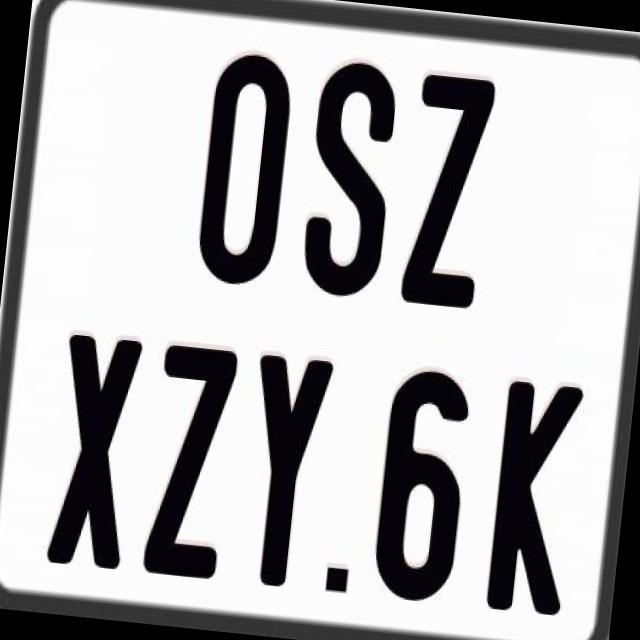0: (190, 47, 292, 286)
6: (369, 362, 471, 600)
K: (484, 380, 590, 622)
S: (294, 58, 396, 308)
X: (42, 328, 140, 568)
Y: (236, 351, 340, 588)
Z: (398, 68, 502, 310), (138, 338, 236, 578)
